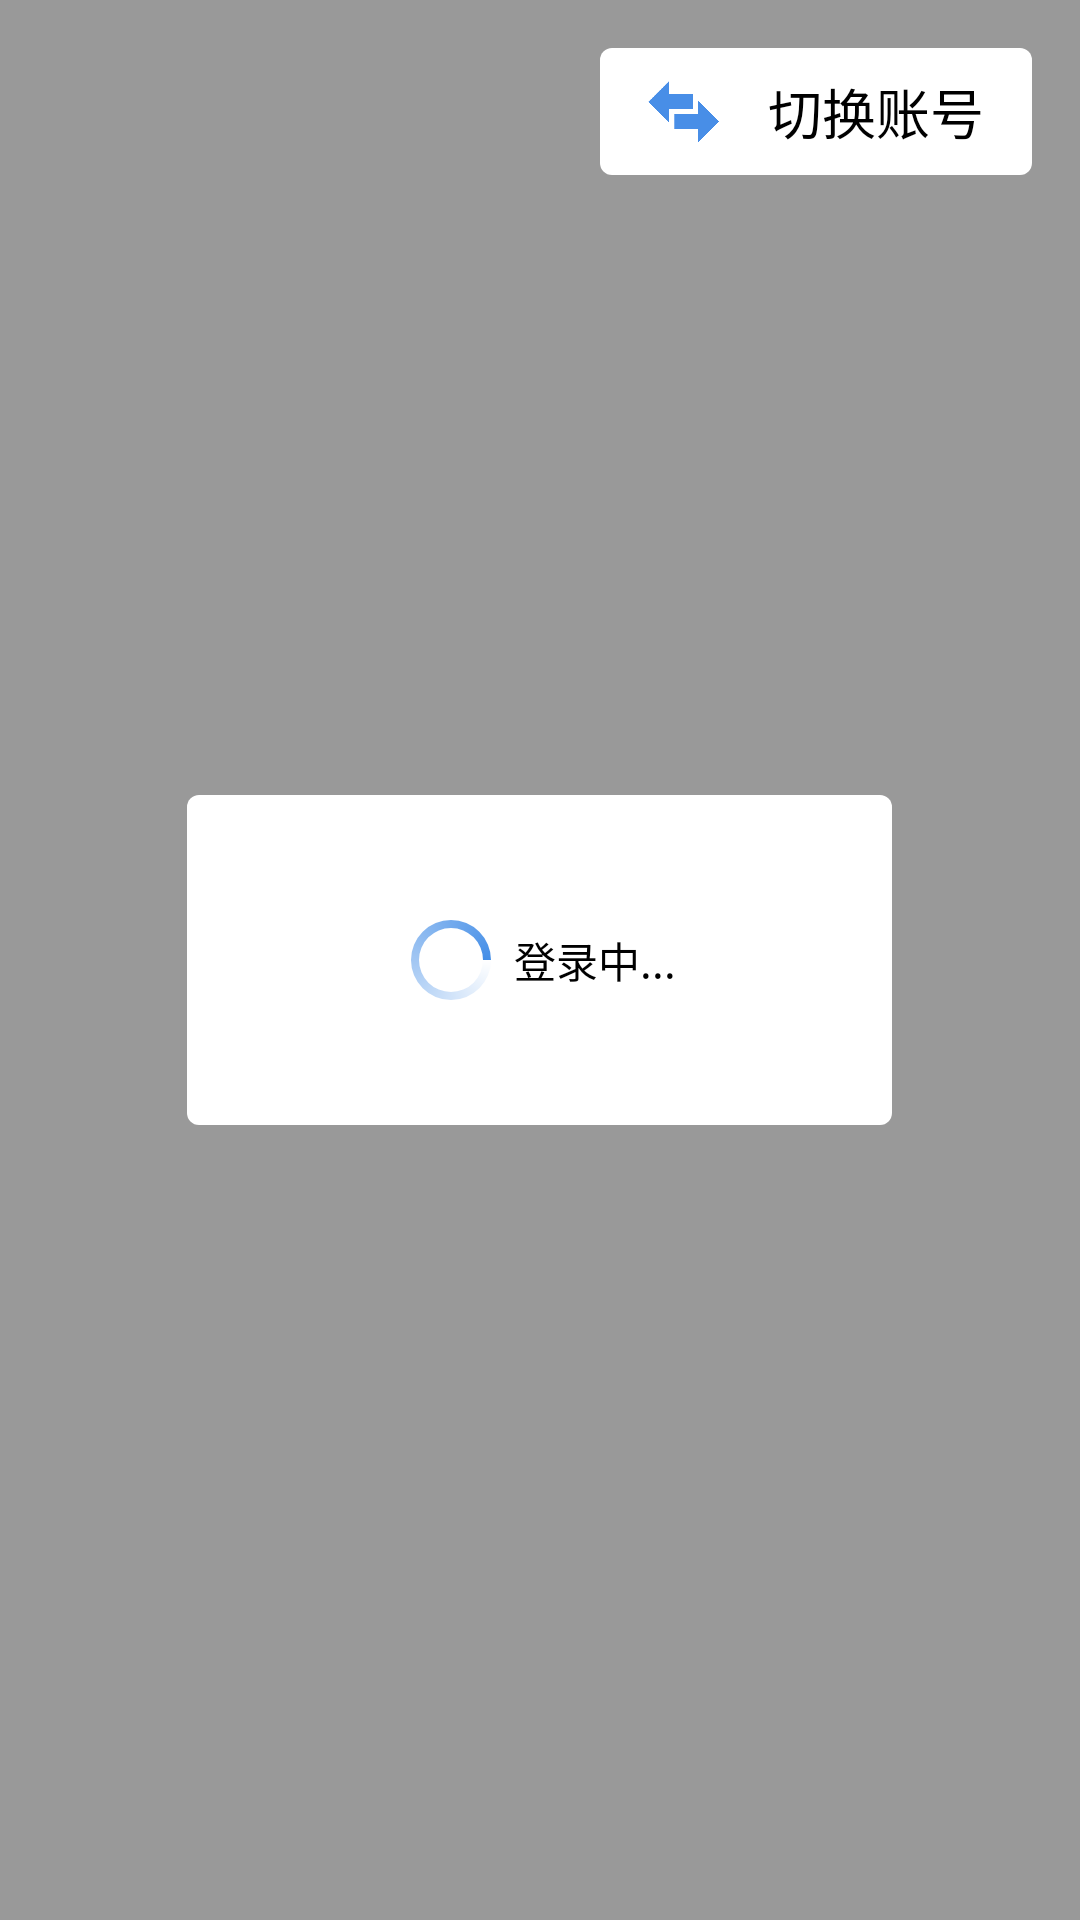

Icon click points for this 1080x1920 phone screenshot, format [x,y]:
switch: [683,111]
